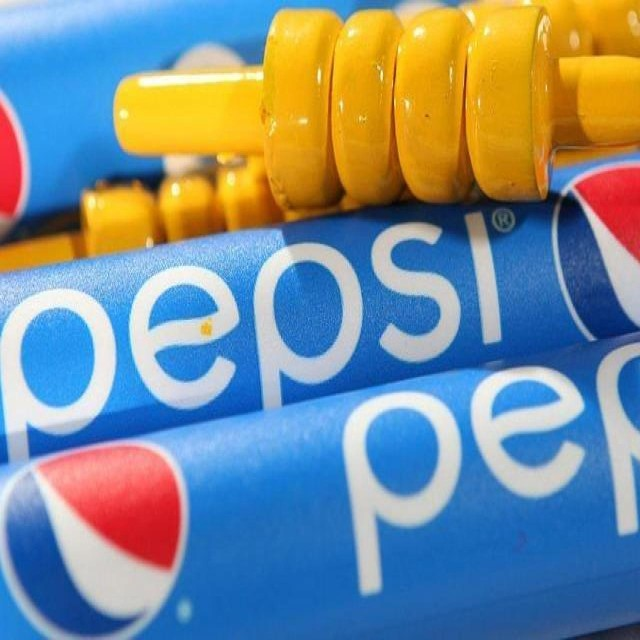pepsi: (0, 436, 193, 640)
